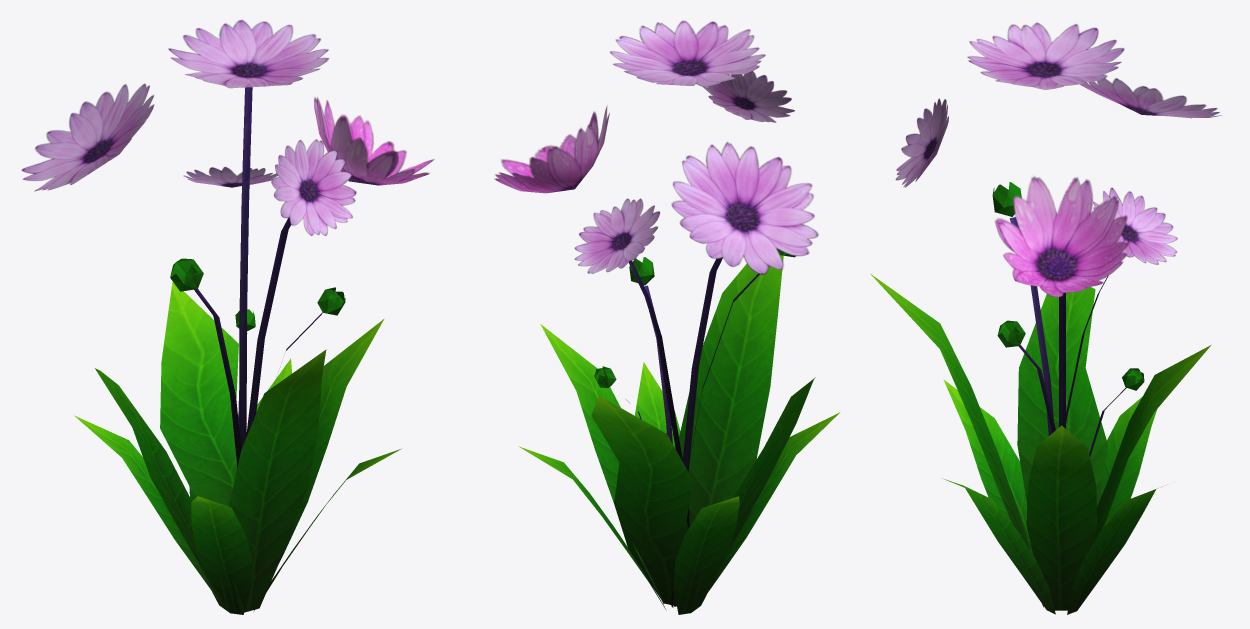
The picture shows the model from 3 angles, left to right: view 1: azimuth 30°, elevation 25°; view 2: azimuth 150°, elevation 25°; view 3: azimuth 270°, elevation 25°; orthographic projection.
Visible parts, largest first — view 1: Flower03; view 2: Flower03; view 3: Flower03.
Part boxes in pixels (x1=…): Flower03: x1=21, y1=20, x2=434, y2=614; Flower03: x1=494, y1=20, x2=840, y2=614; Flower03: x1=871, y1=22, x2=1221, y2=614.
Size of the model in its own units: 18.38 by 26.36 by 15.72.
1 material, 1 textured.
